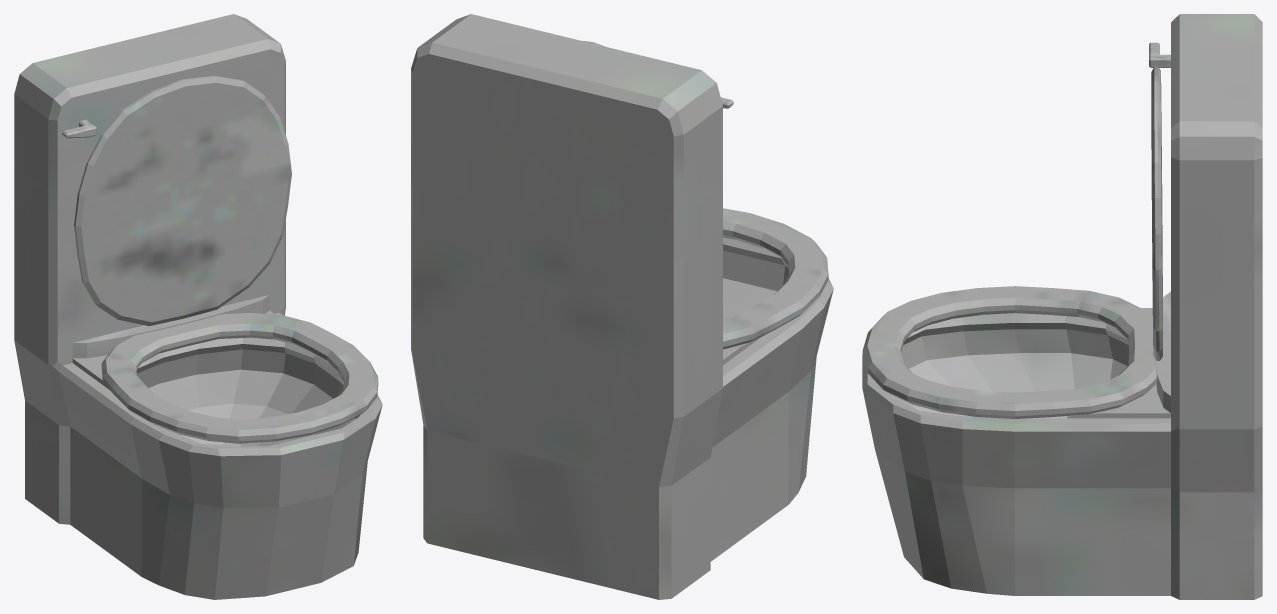
Rendered from toilet.glb.
The picture shows the model from 3 angles, left to right: view 1: azimuth 30°, elevation 25°; view 2: azimuth 150°, elevation 25°; view 3: azimuth 270°, elevation 25°; orthographic projection. The views are drawn at different scales.
Parts seen in each view (by area): view 1: Toilet.002; view 2: Toilet.002; view 3: Toilet.002.
Boxes of the visible parts, x1,y1,x2,y2 form: Toilet.002: (14, 14, 382, 599); Toilet.002: (411, 14, 833, 599); Toilet.002: (862, 14, 1262, 599).
Size of the model in its own units: 0.576 by 1 by 0.7679.
Materials: 1 (1 with a texture image).
